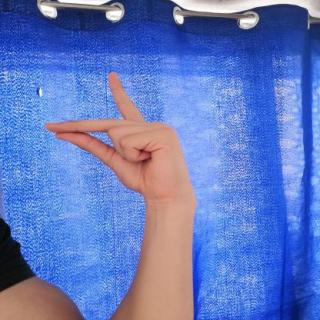TAA: (35, 64, 199, 204)
